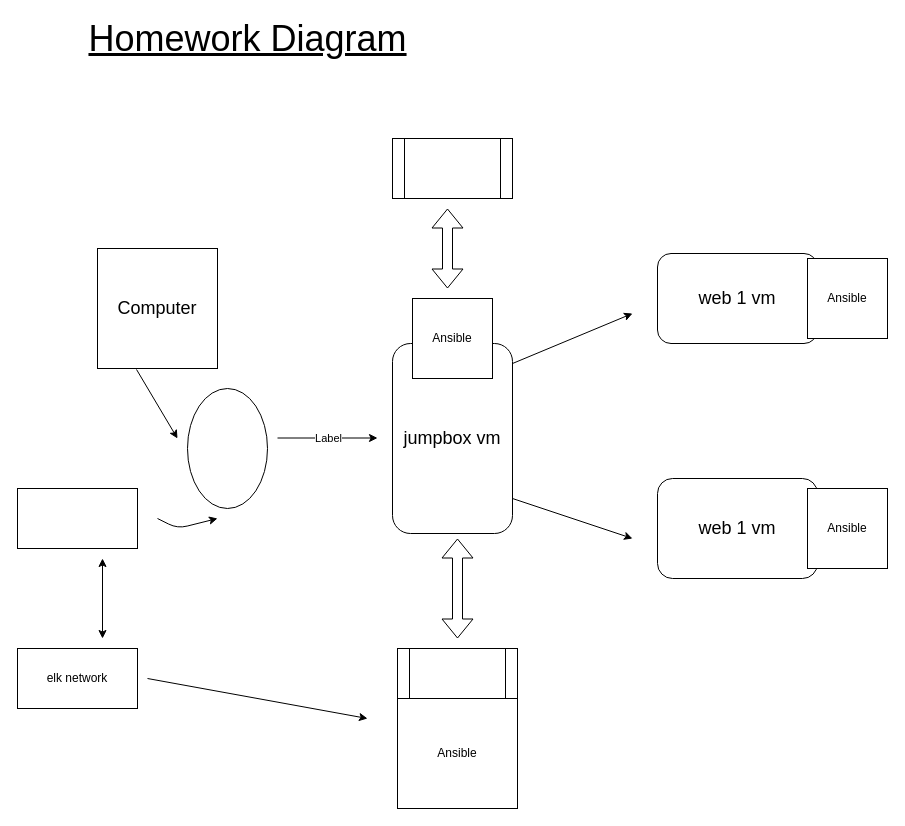
The diagram is 905 pixels wide and 826 high, and some of its shapes have lost their labels. Here are the shapes that lost their labels. From the top down, the centre of each, then its label:
At (x=452, y=168): "Resource Group".
At (x=227, y=448): "Load Balancer".
At (x=77, y=518): "red team network".
At (x=457, y=678): "vm elk".
